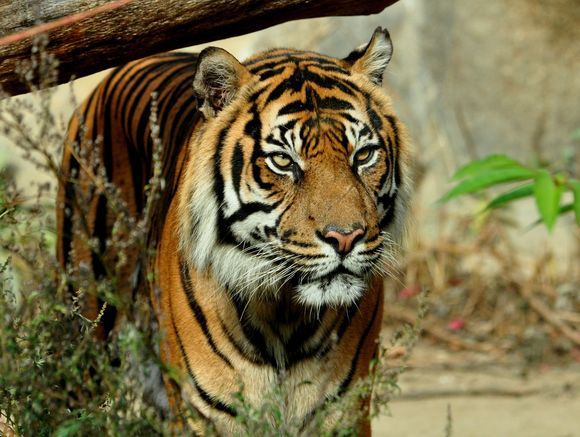Tiger: (50, 34, 497, 437)
